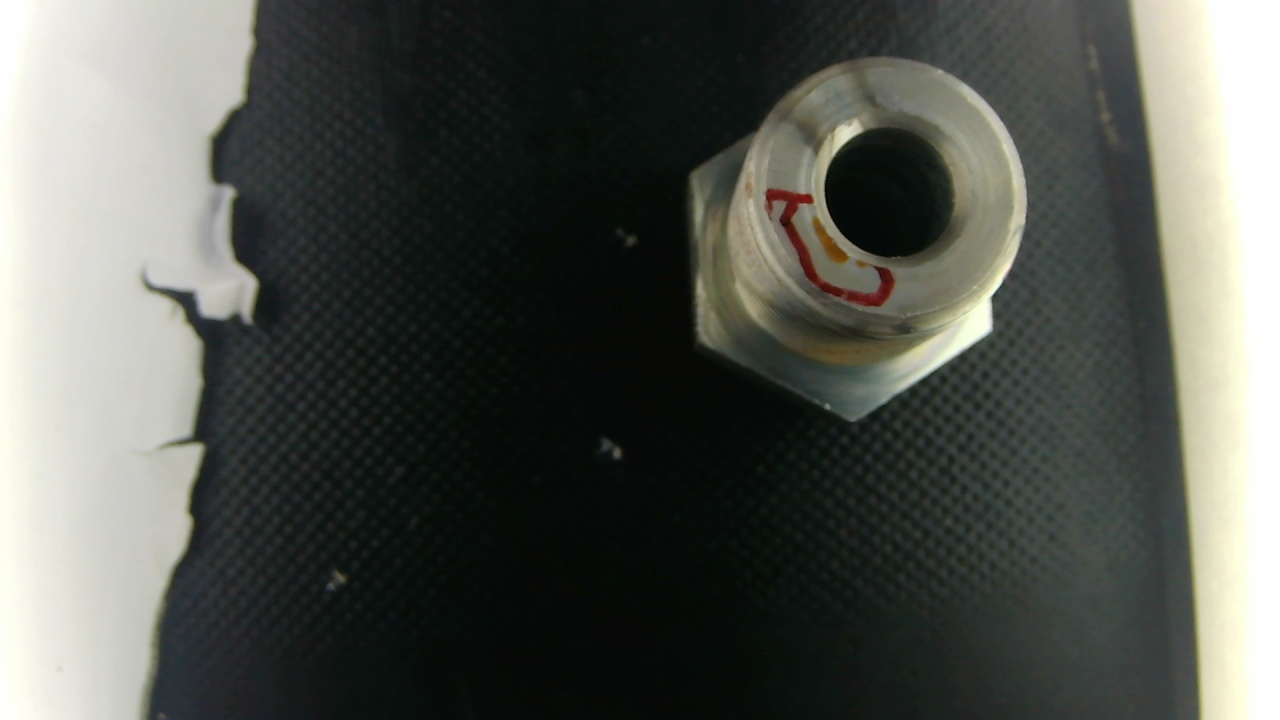blackpatch: (831, 44, 893, 135)
